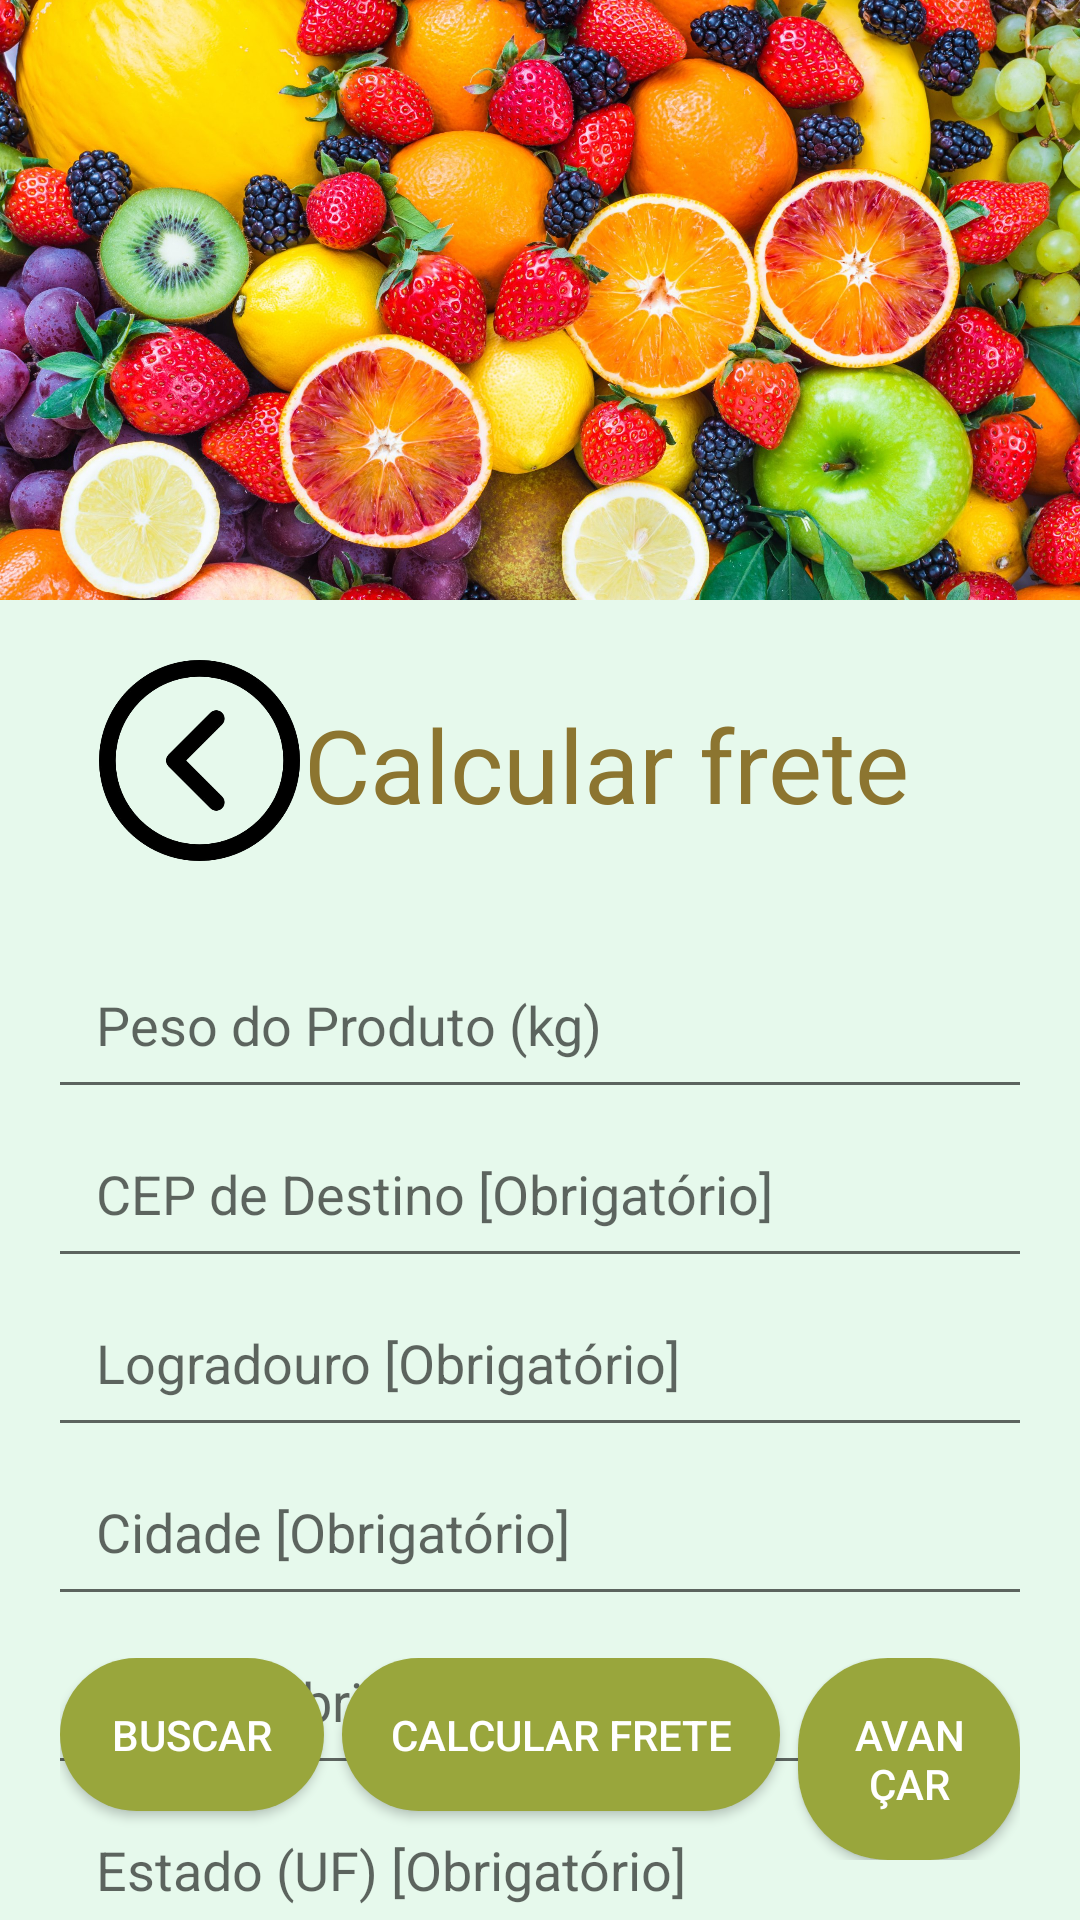

Icons on this 1080 x 1920 Android screen, each with its box as (x1, y1, x2, y2):
voltar: (99, 660, 300, 861)
